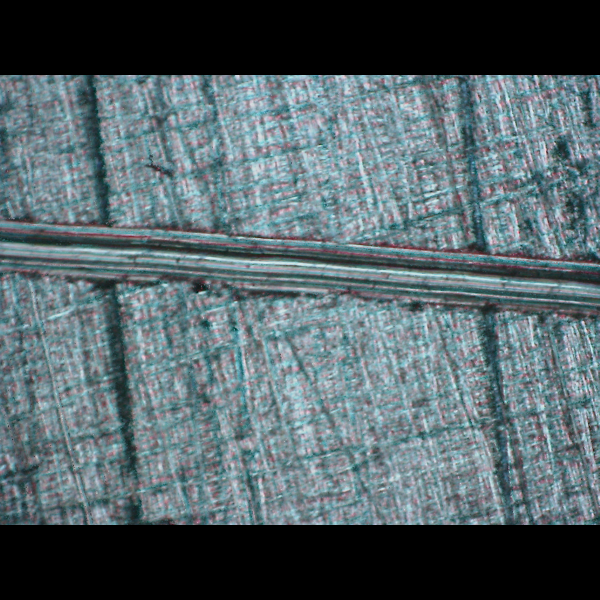d: (2, 213, 599, 333)
